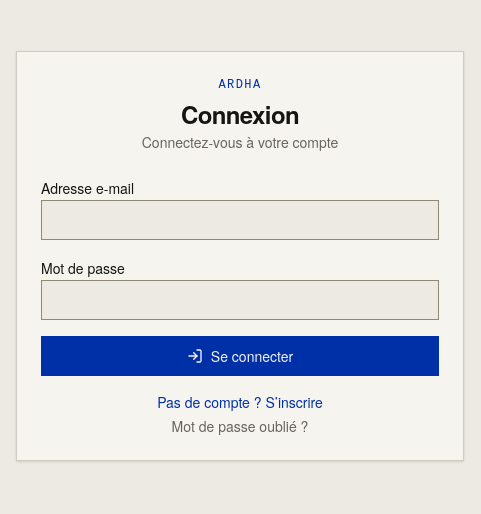
Test: connexion › affiche le refus de l’API
This screenshot has width=481, height=514.
Type "alice@exemple.fr" into the field labelled "Adresse e-mail" at point(240, 220), box [41,200,439,240]
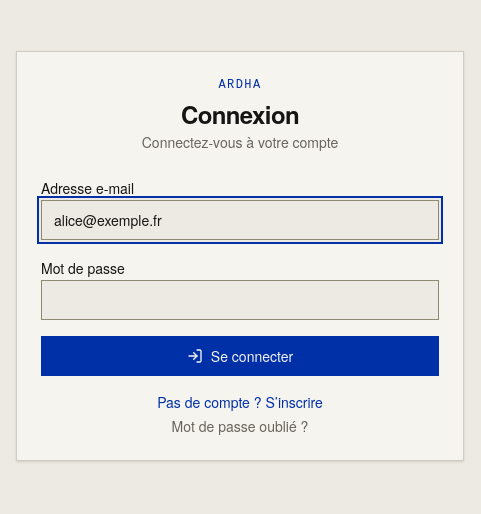
Type "mauvais" into the password field labelled "Mot de passe" at point(240, 300), box [41,280,439,320]
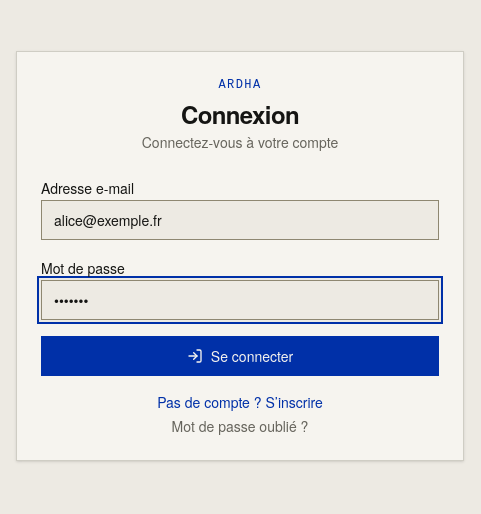
Click the button "Se connecter" at point(240, 356), box [41,336,439,376]
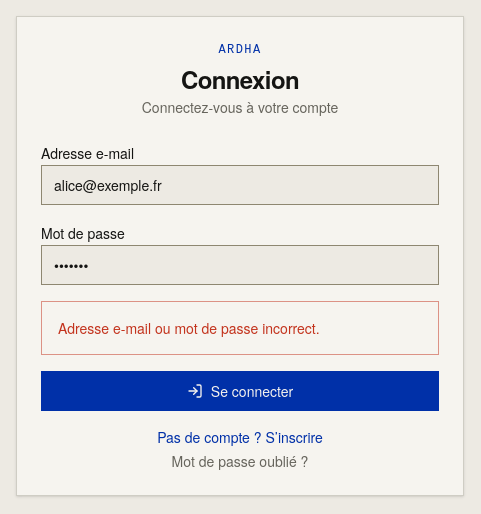
Expected: the message reads "Adresse e-mail ou mot de passe incorrect.", [58,318,320,338]
